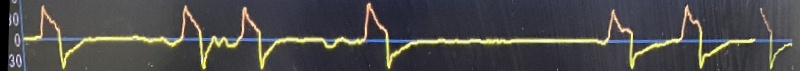normal_flow: (12, 0, 768, 71)
